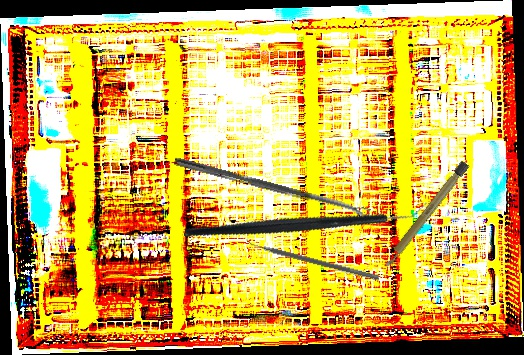Chopper: (183, 139, 428, 299)
Scalpel Handle: (380, 159, 471, 271)
Spatula Surgical: (242, 236, 382, 281)
Surgical Spoon: (173, 157, 371, 218)
